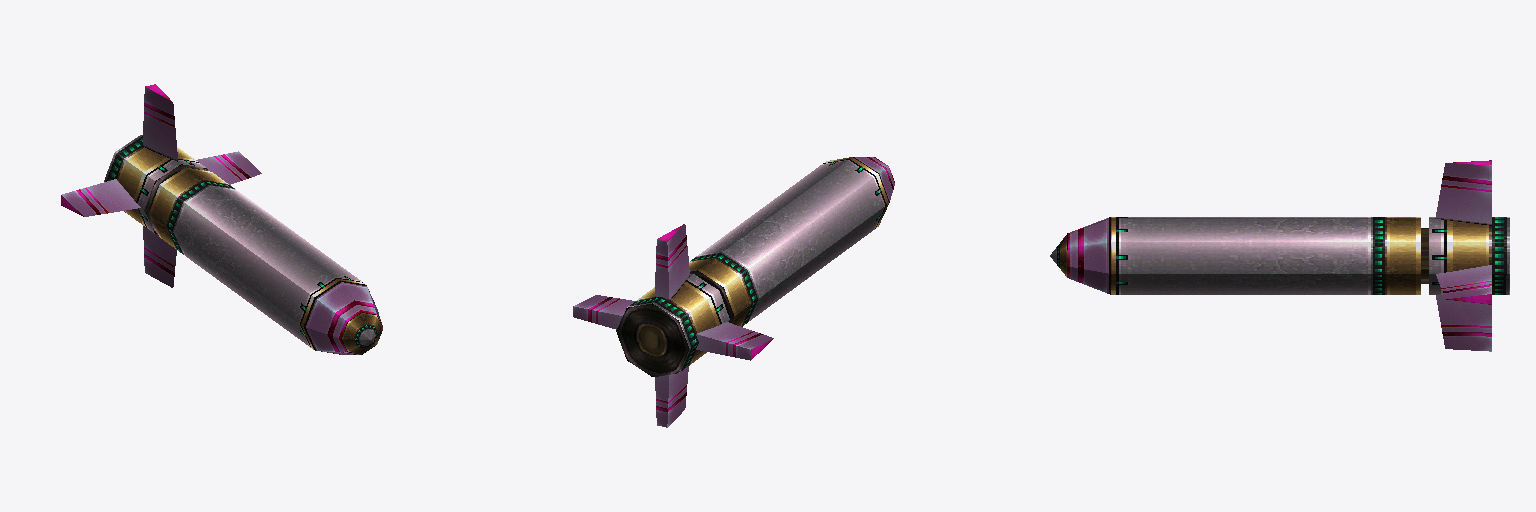
3 renders of one model, left to right at view 1: azimuth 30°, elevation 25°; view 2: azimuth 150°, elevation 25°; view 3: azimuth 270°, elevation 25°, orthographic.
Parts seen in each view (by area): view 1: polygon1, polygon0; view 2: polygon1, polygon0; view 3: polygon1, polygon0.
Part boxes in pixels (x1,y1,x2,y2): polygon1: (149, 168, 382, 354); polygon0: (61, 84, 261, 287); polygon1: (689, 157, 894, 326); polygon0: (573, 224, 773, 427); polygon1: (1050, 217, 1420, 294); polygon0: (1421, 160, 1509, 351).
Bounding box in the file's own units: 11.1 × 11.1 × 24.9.
1 materials, 1 textured.